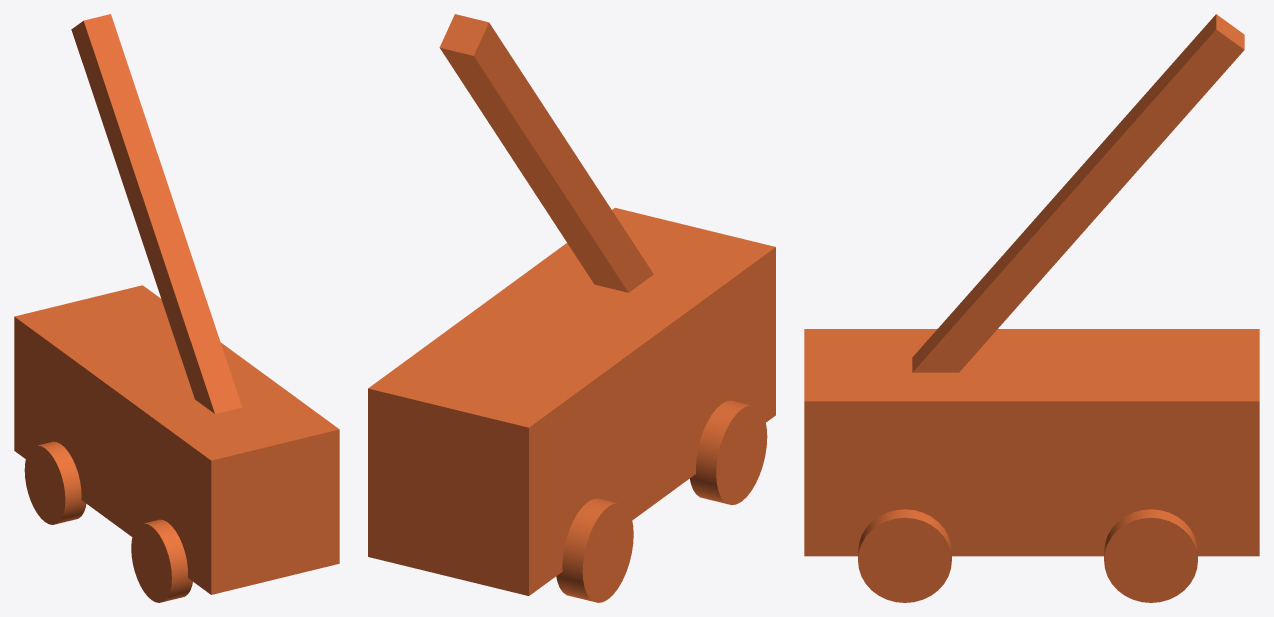
File: crane.gltf
The picture shows the model from 3 angles, left to right: view 1: azimuth 30°, elevation 25°; view 2: azimuth 150°, elevation 25°; view 3: azimuth 270°, elevation 25°; orthographic projection. The views are drawn at different scales.
Visible parts, largest first — view 1: Cylinder.002; view 2: Cylinder.002; view 3: Cylinder.002.
Boxes of the visible parts, <box> form: Cylinder.002: <box>14,14,339,602</box>; Cylinder.002: <box>368,14,775,602</box>; Cylinder.002: <box>804,14,1259,602</box>.
Size of the model in its own units: 2.49 by 6.92 by 5.32.
